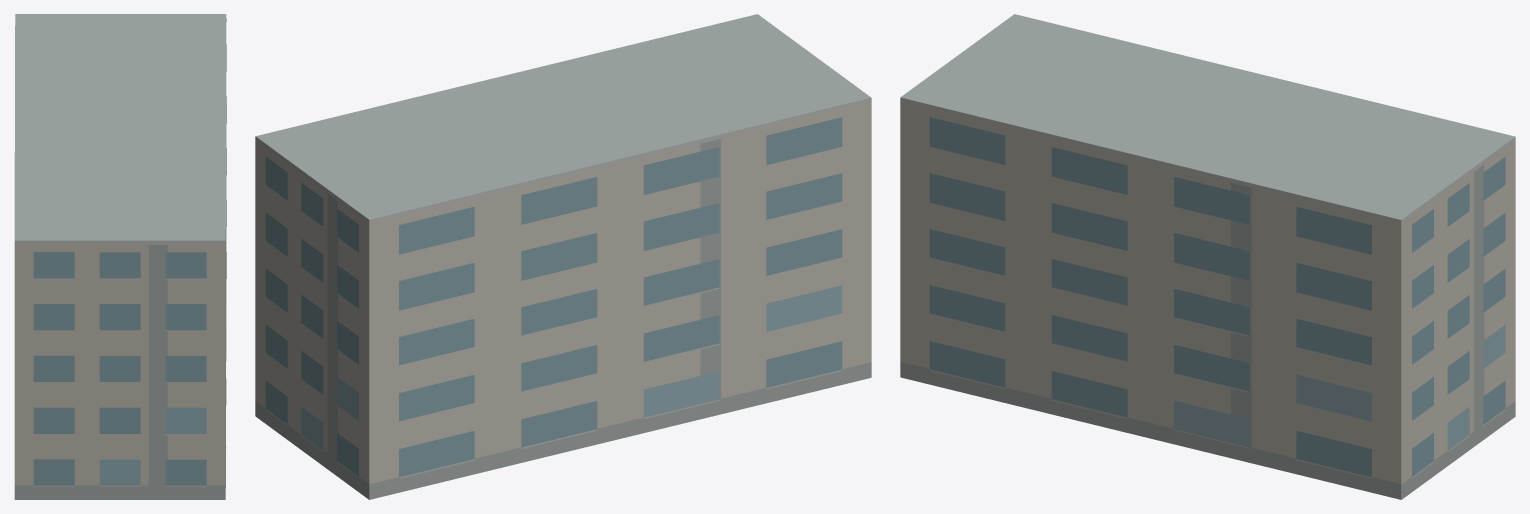
Rendered from residential-a1e76a42-a783-4680-9138-7e35d2a4ba79.glb.
3 renders of one model, left to right at view 1: azimuth 30°, elevation 25°; view 2: azimuth 150°, elevation 25°; view 3: azimuth 270°, elevation 25°, orthographic. The views are drawn at different scales.
Parts seen in each view (by area): view 1: residential-a1e76a42-a783-4680-9138-7e35d2a4ba79.tmp; view 2: residential-a1e76a42-a783-4680-9138-7e35d2a4ba79.tmp; view 3: residential-a1e76a42-a783-4680-9138-7e35d2a4ba79.tmp.
Part boxes in pixels (x1=…): residential-a1e76a42-a783-4680-9138-7e35d2a4ba79.tmp: x1=14, y1=14, x2=226, y2=499; residential-a1e76a42-a783-4680-9138-7e35d2a4ba79.tmp: x1=255, y1=14, x2=871, y2=499; residential-a1e76a42-a783-4680-9138-7e35d2a4ba79.tmp: x1=900, y1=14, x2=1515, y2=499.
Bounding box in the file's own units: 24.08 × 15.25 × 30.4.
